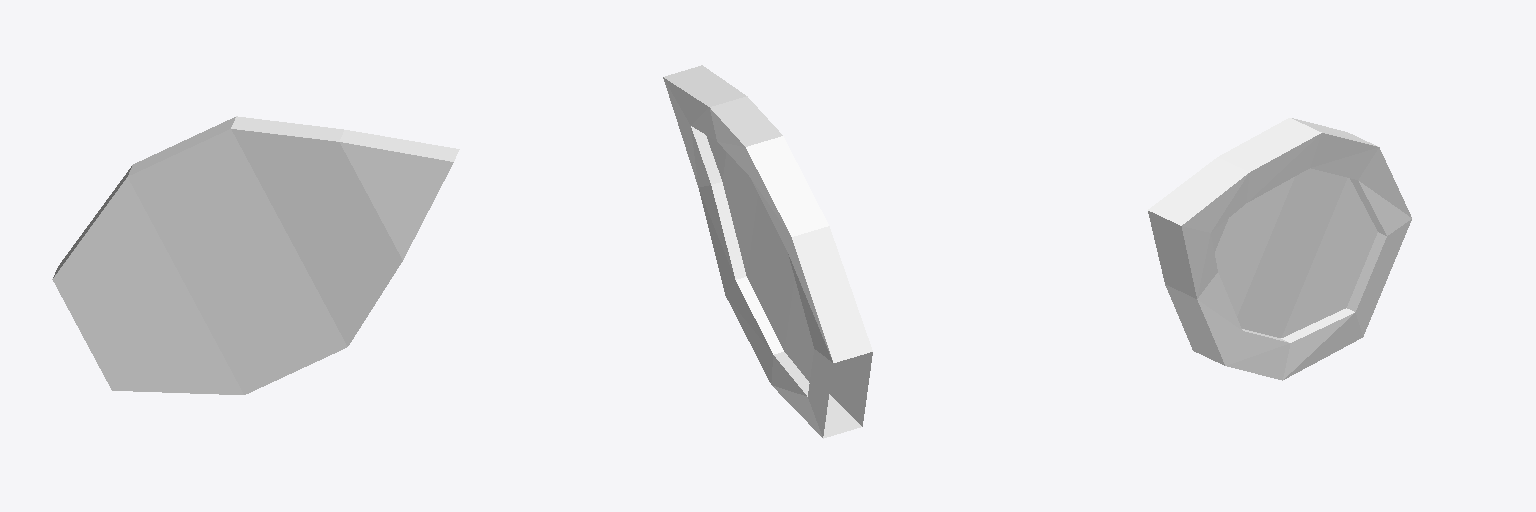
File: EarR.obj
3 renders of one model, left to right at view 1: azimuth 30°, elevation 25°; view 2: azimuth 150°, elevation 25°; view 3: azimuth 270°, elevation 25°, orthographic.
Visible parts, largest first — view 1: Earr1; view 2: Earr1; view 3: Earr1.
Boxes of the visible parts, box(x1,y1,x2,y2) form: Earr1: box(52, 116, 459, 394); Earr1: box(663, 65, 872, 438); Earr1: box(1148, 118, 1411, 380).
Size of the model in its own units: 2.02 by 1.61 by 1.5.